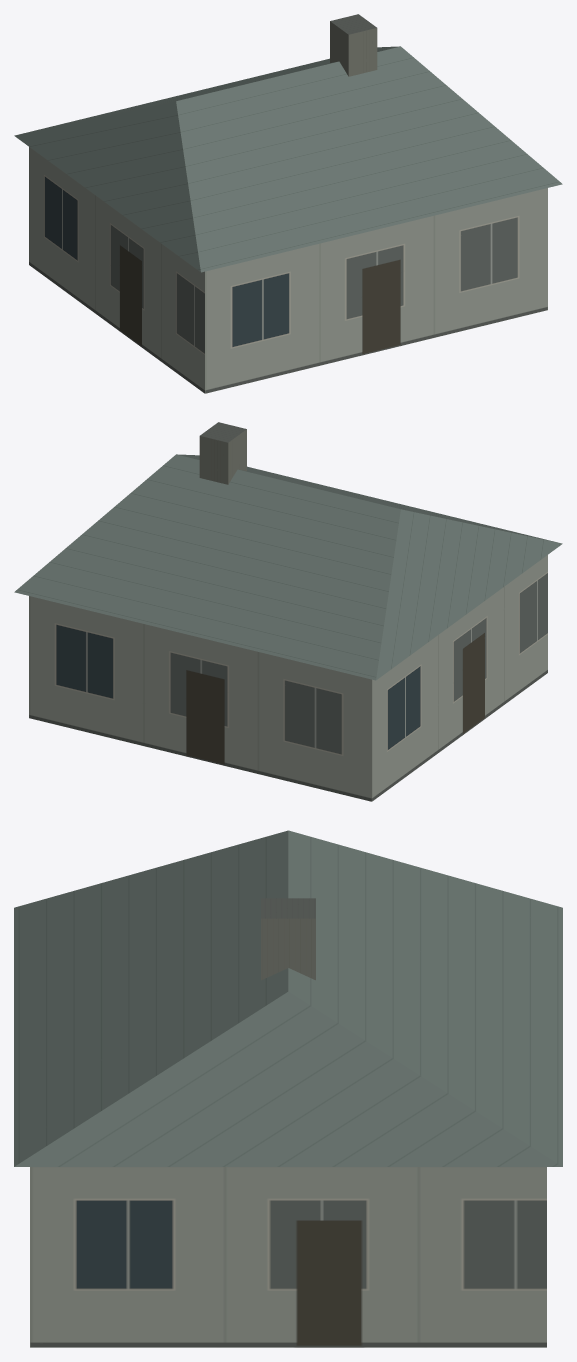
The model's file is kyiv_private_03.obj.
The picture shows the model from 3 angles, top to bottom: view 1: azimuth 30°, elevation 25°; view 2: azimuth 150°, elevation 25°; view 3: azimuth 270°, elevation 25°; orthographic projection. The views are drawn at different scales.
Parts seen in each view (by area): view 1: kyiv_private_03; view 2: kyiv_private_03; view 3: kyiv_private_03.
Part boxes in pixels (x1,y1,x2,y2): kyiv_private_03: [14, 14, 562, 393]; kyiv_private_03: [14, 422, 562, 801]; kyiv_private_03: [14, 830, 562, 1347].
Bounding box in the file's own units: 9.5 × 6.2 × 8.5.
1 material, 1 textured.
